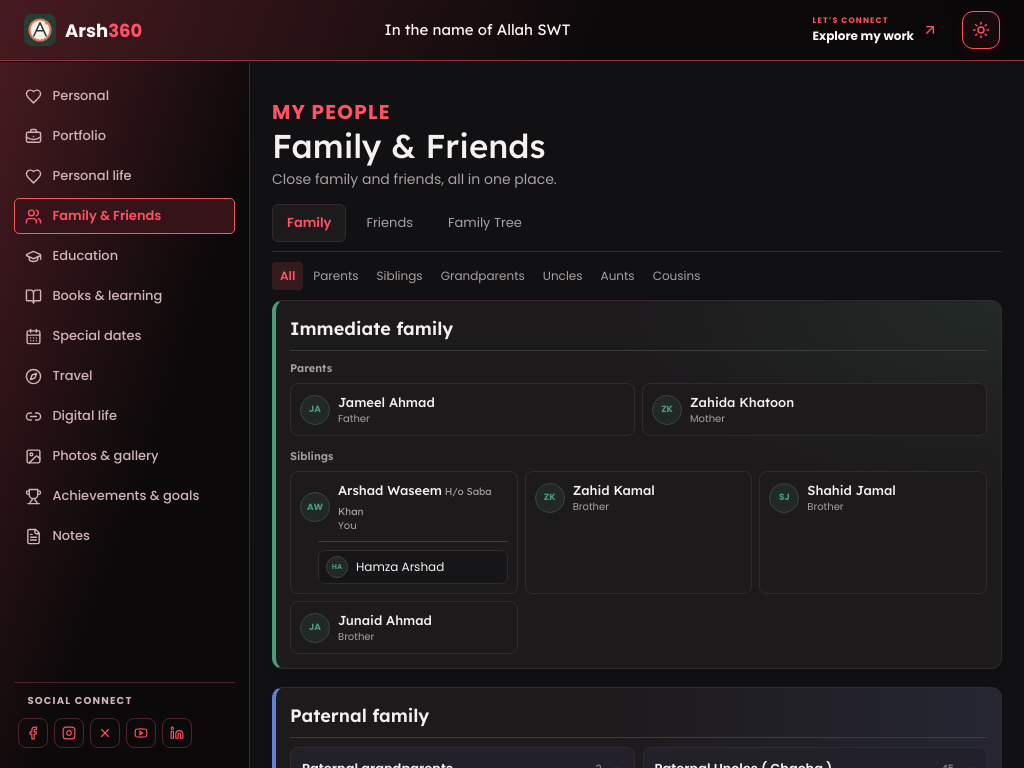
Scenario: shows all family sections together and filters relatives
Earlier steps of the test are not shown.
Expected: the text "Jameel Ahmad" is shown, [338, 393, 435, 413]
Expected: the text "Zahida Khatoon" is shown, [690, 393, 794, 413]
Click the button "Siblings" at (400, 276), box [369, 262, 431, 290]
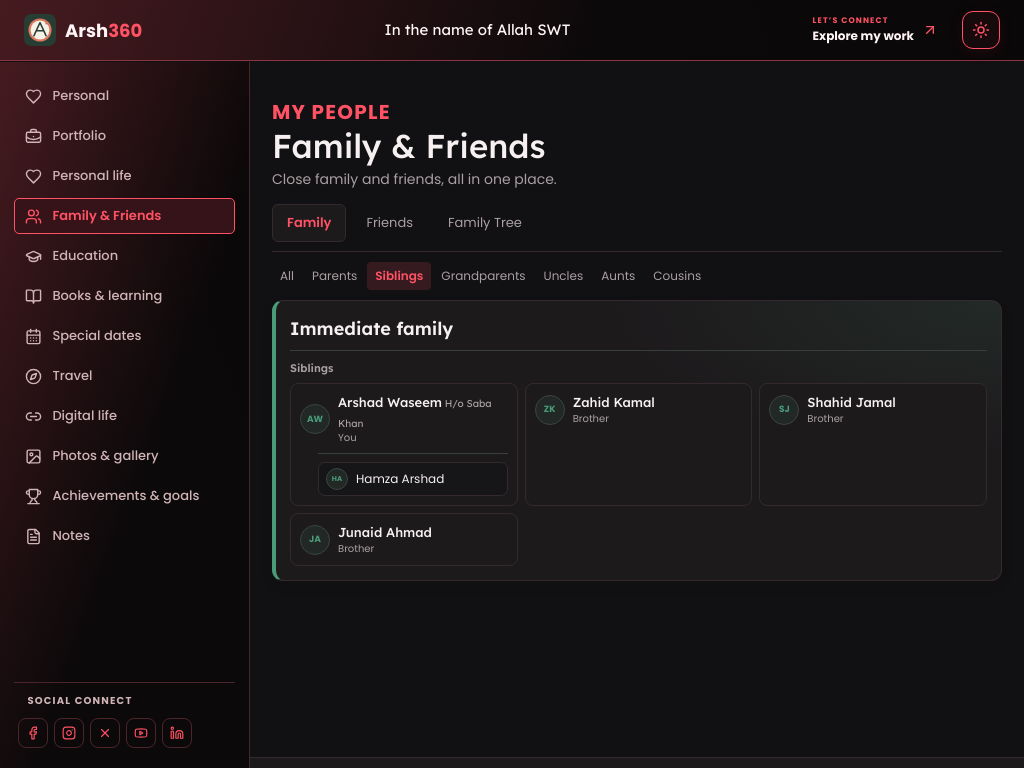
Expected: the text "Zahid Kamal" is shown, [573, 393, 655, 413]
Expected: the text "Jameel Ahmad" is gone
Expected: the heading "Paternal family" is gone
Click the button "Parents" at (335, 276), box [304, 262, 365, 290]
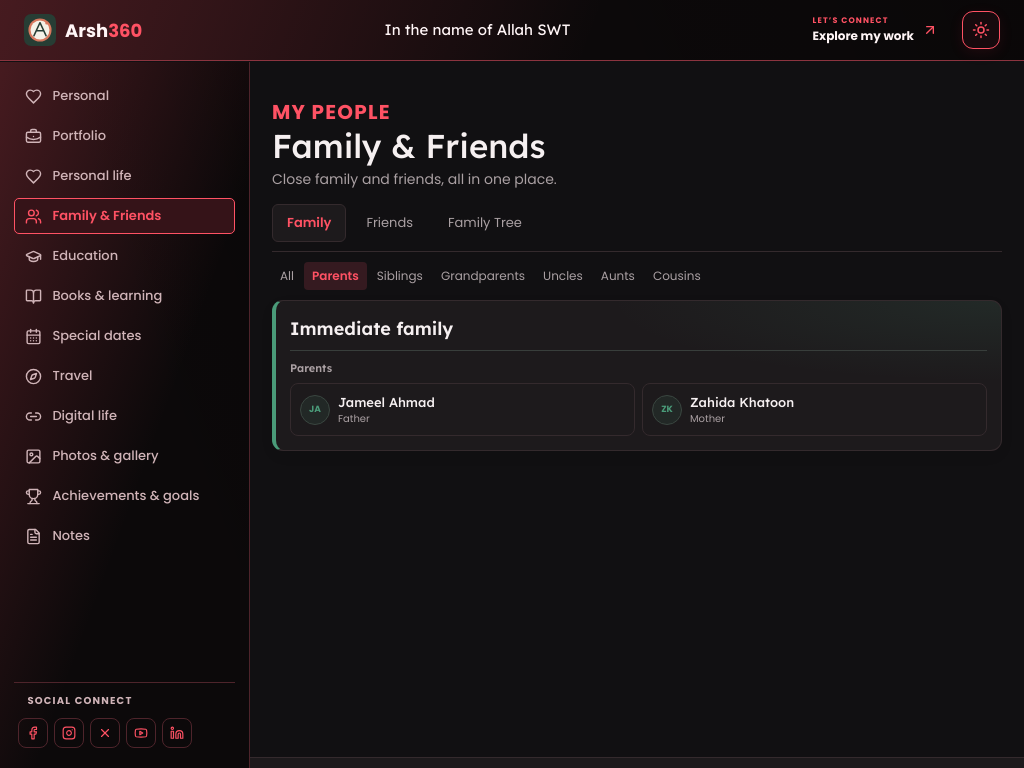
Expected: the heading "Paternal family" is not shown
Expected: the text "Jameel Ahmad" is shown, [338, 393, 435, 413]
Expected: the text "Zahid Kamal" is gone
Click the button "Uncles" at (563, 276), box [535, 262, 591, 290]
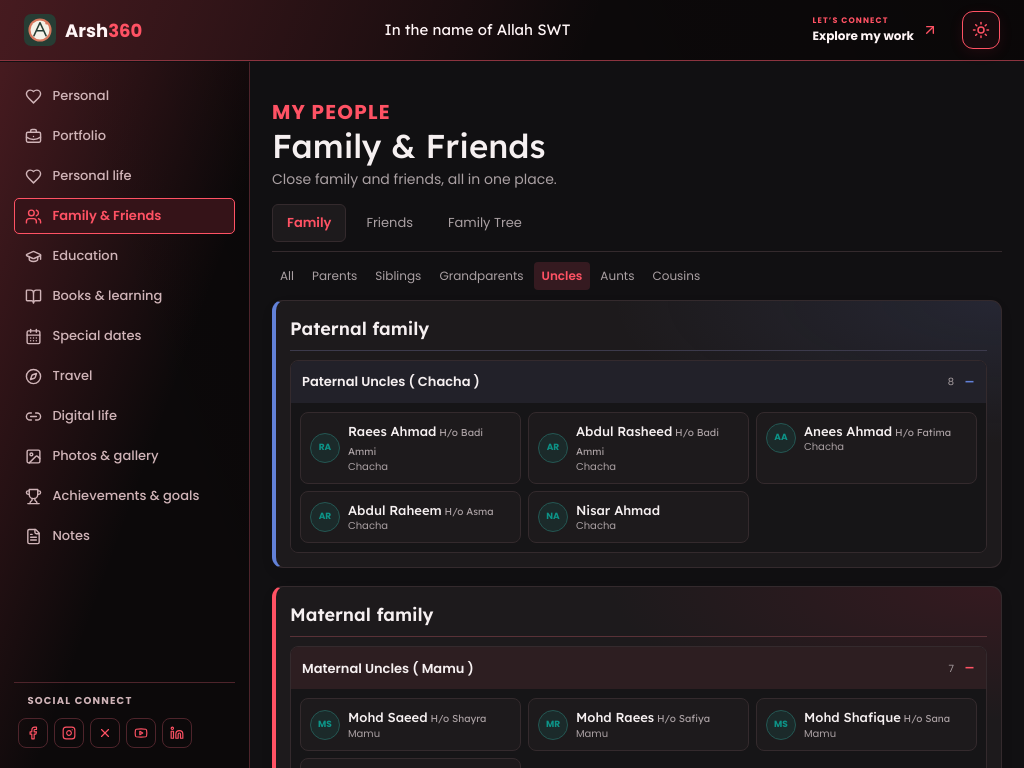
Expected: the text "Raees Ahmad" is shown, [348, 423, 436, 439]
Expected: the text "Mohd Saeed" is shown, [348, 709, 428, 725]
Expected: the heading "Immediate family" is gone
Click the button "Aunts" at (617, 276), box [592, 262, 642, 290]
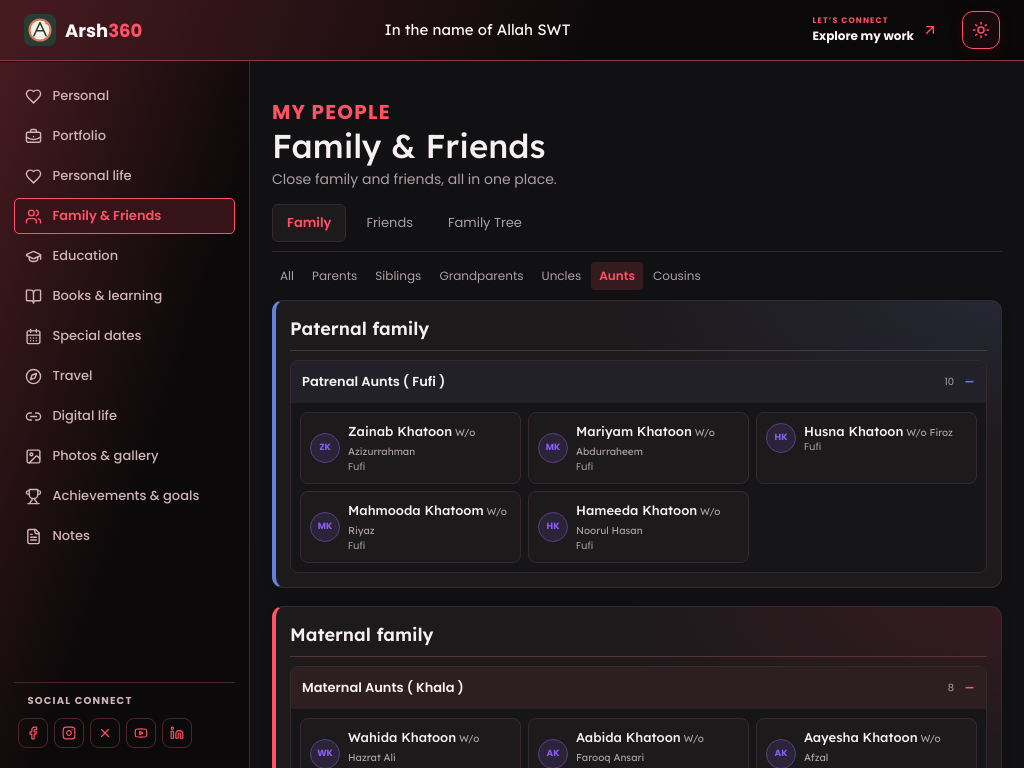
Expected: the text "Zainab Khatoon" is shown, [348, 423, 452, 439]
Expected: the text "Wahida Khatoon" is shown, [348, 729, 456, 745]
Expected: the text "Raees Ahmad" is gone
Click the button "Grandparents" at (482, 276), box [431, 262, 532, 290]
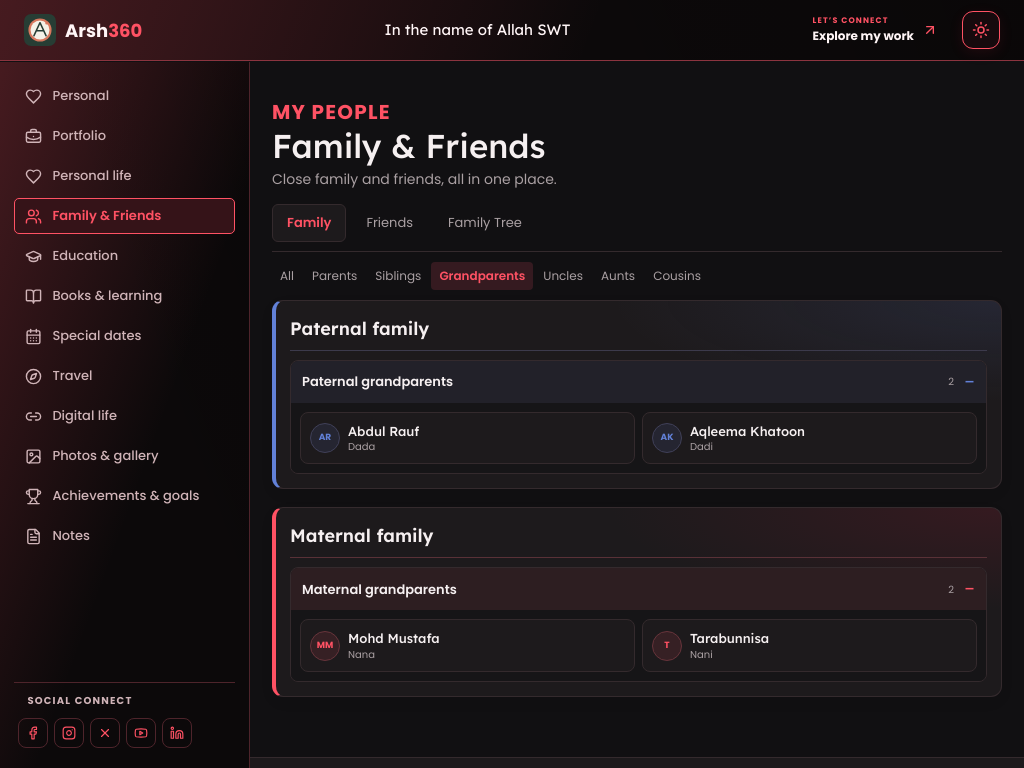
Expected: the text "Raees Ahmad" is not shown
Expected: the text "Abdul Rauf" is shown, [348, 422, 420, 441]
Expected: the text "Mohd Mustafa" is shown, [348, 629, 440, 649]
Click the button "Cousins" at (677, 276), box [645, 262, 709, 290]
(page scrolled)
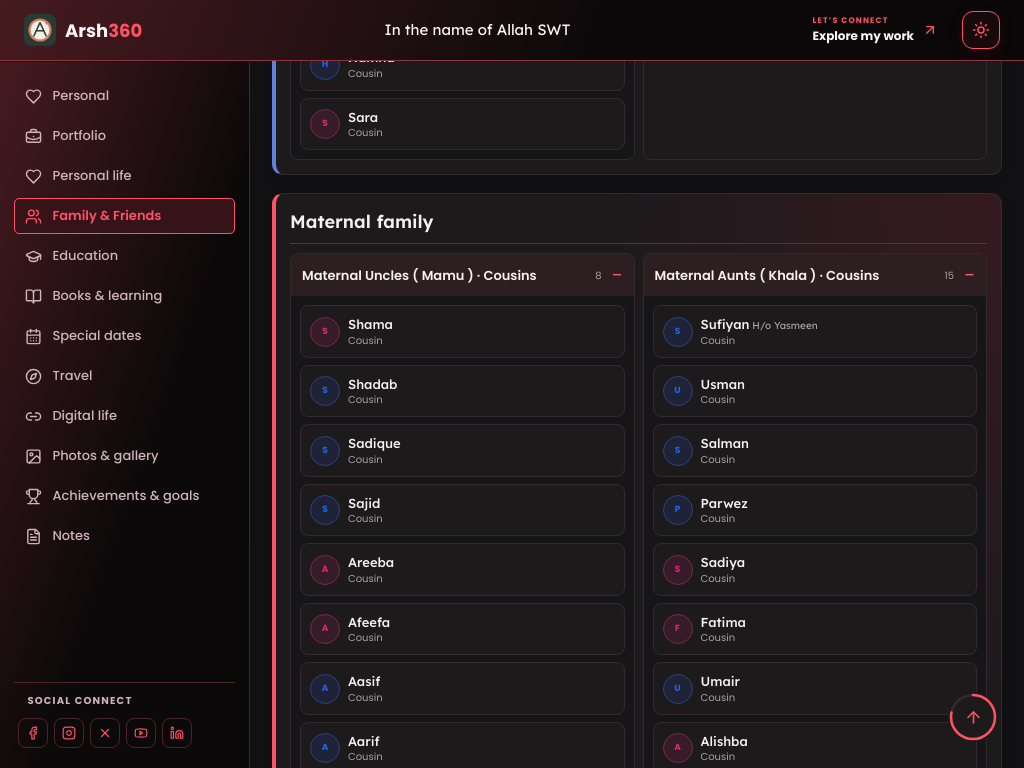
Expected: the text "Raees Ahmad" is not shown
Expected: the text "Shadab" is shown, [348, 375, 397, 394]
